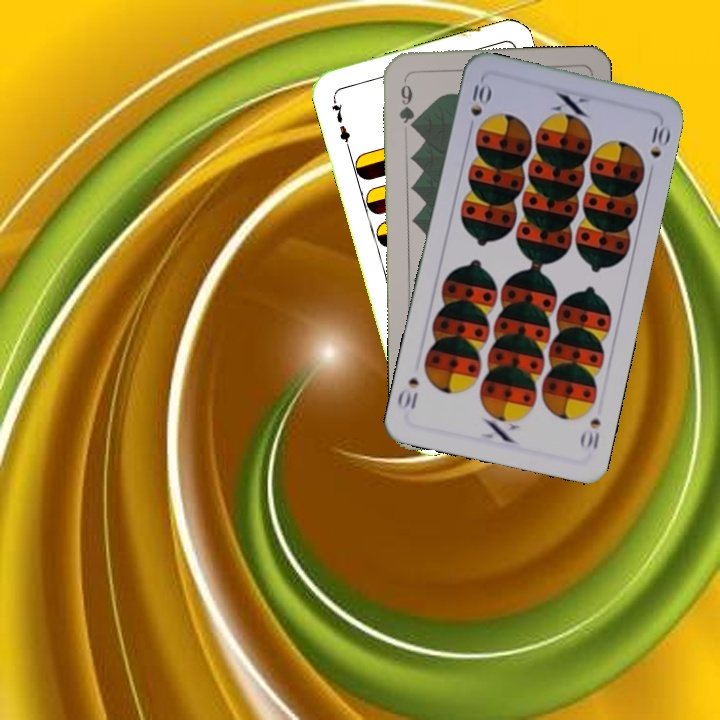E7: (328, 93, 353, 151)
G9: (395, 75, 417, 133)
S10: (464, 80, 493, 135), (576, 414, 604, 452)
